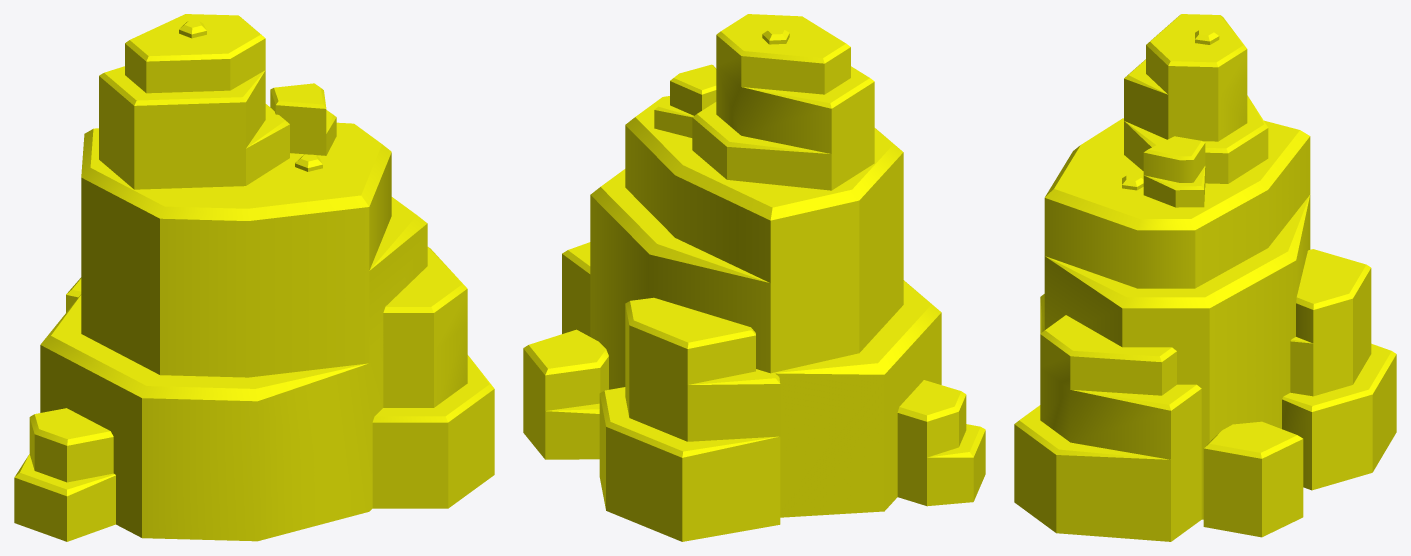
Rendered from kaykit-rock-1-k-color-1.glb.
3 views of the same model, side by side, from view 1: azimuth 30°, elevation 25°; view 2: azimuth 150°, elevation 25°; view 3: azimuth 270°, elevation 25° (orthographic). The views are drawn at different scales.
Parts seen in each view (by area): view 1: Rock_1_K_Color1; view 2: Rock_1_K_Color1; view 3: Rock_1_K_Color1.
Boxes of the visible parts, box(x1,y1,x2,y2) form: Rock_1_K_Color1: box(14, 14, 494, 541); Rock_1_K_Color1: box(523, 14, 985, 541); Rock_1_K_Color1: box(1014, 14, 1396, 541).
Bounding box in the file's own units: 3.69 × 3.65 × 3.13.
